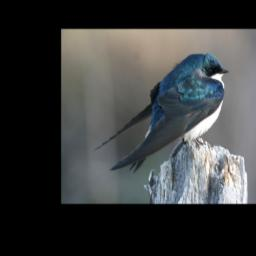Swallow: (93, 53, 228, 173)
